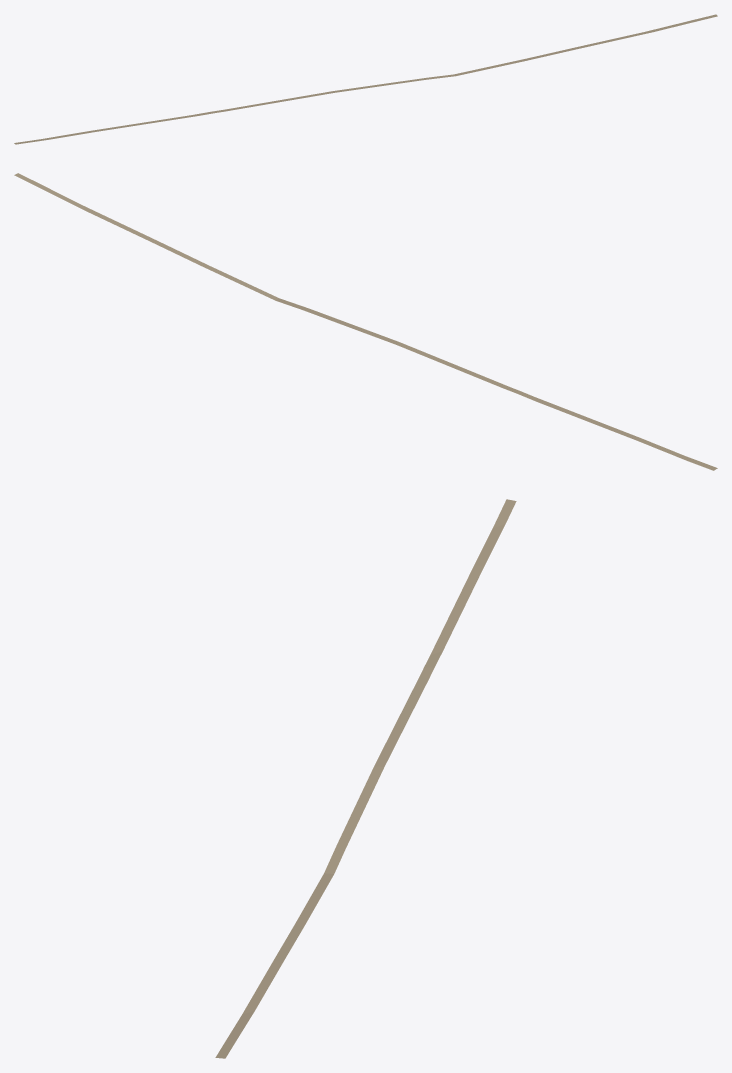
The model's file is farm_-5_4_track.glb.
The picture shows the model from 3 angles, top to bottom: view 1: azimuth 30°, elevation 25°; view 2: azimuth 150°, elevation 25°; view 3: azimuth 270°, elevation 25°; orthographic projection. The views are drawn at different scales.
Parts seen in each view (by area): view 1: geometry_0; view 2: geometry_0; view 3: geometry_0.
Boxes of the visible parts, box(x1,y1,x2,y2) form: geometry_0: box(14, 14, 717, 144); geometry_0: box(14, 173, 717, 470); geometry_0: box(215, 499, 516, 1058).
Bounding box in the file's own units: 465 × 20.05 × 96.3.
